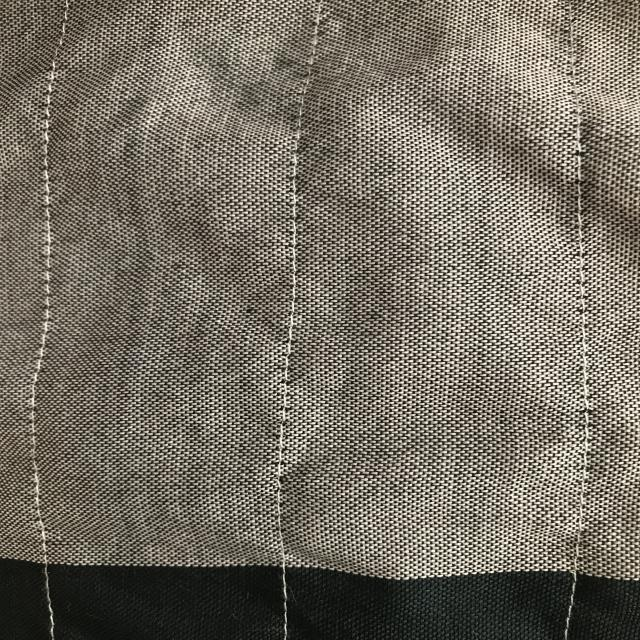good: (280, 184, 308, 346), (271, 579, 306, 623)
